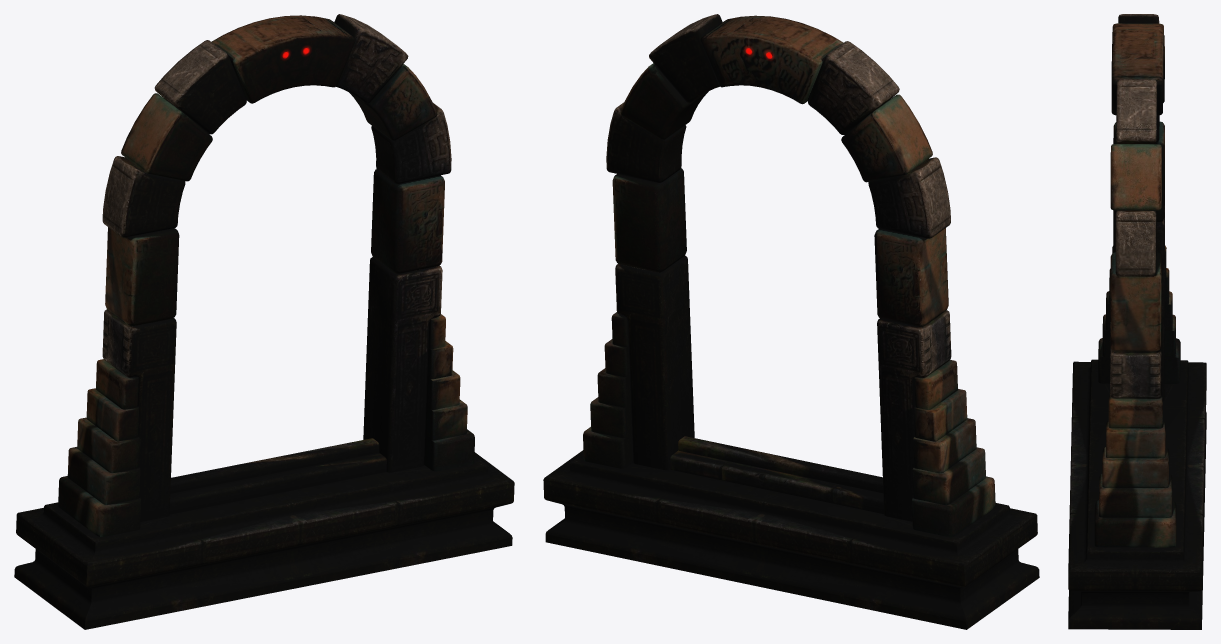
The model's file is portal.glb.
3 views of the same model, side by side, from view 1: azimuth 30°, elevation 25°; view 2: azimuth 150°, elevation 25°; view 3: azimuth 270°, elevation 25° (orthographic). The views are drawn at different scales.
Visible parts, largest first — view 1: Portal; view 2: Portal; view 3: Portal.
Boxes of the visible parts, x1,y1,x2,y2 form: Portal: (14, 14, 514, 629); Portal: (543, 14, 1039, 629); Portal: (1068, 14, 1206, 629).
Bounding box in the file's own units: 4.62 × 5.54 × 1.39.
1 material, 1 textured.
